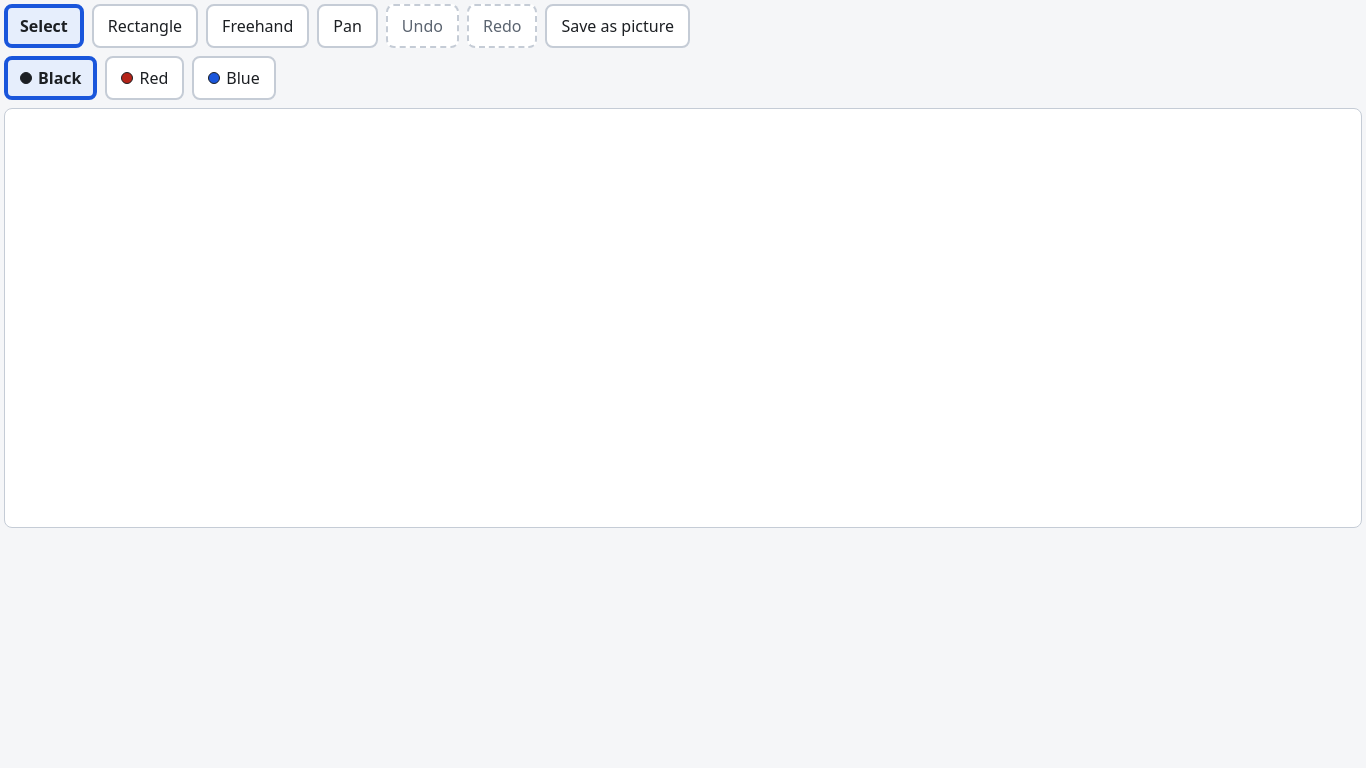
Scenario: toolbar › marks the chosen tool and the chosen colour with aria-pressed
The width and height of the screenshot is (1366, 768).
Click the button "Pan" at (348, 26), box [317, 4, 378, 48]
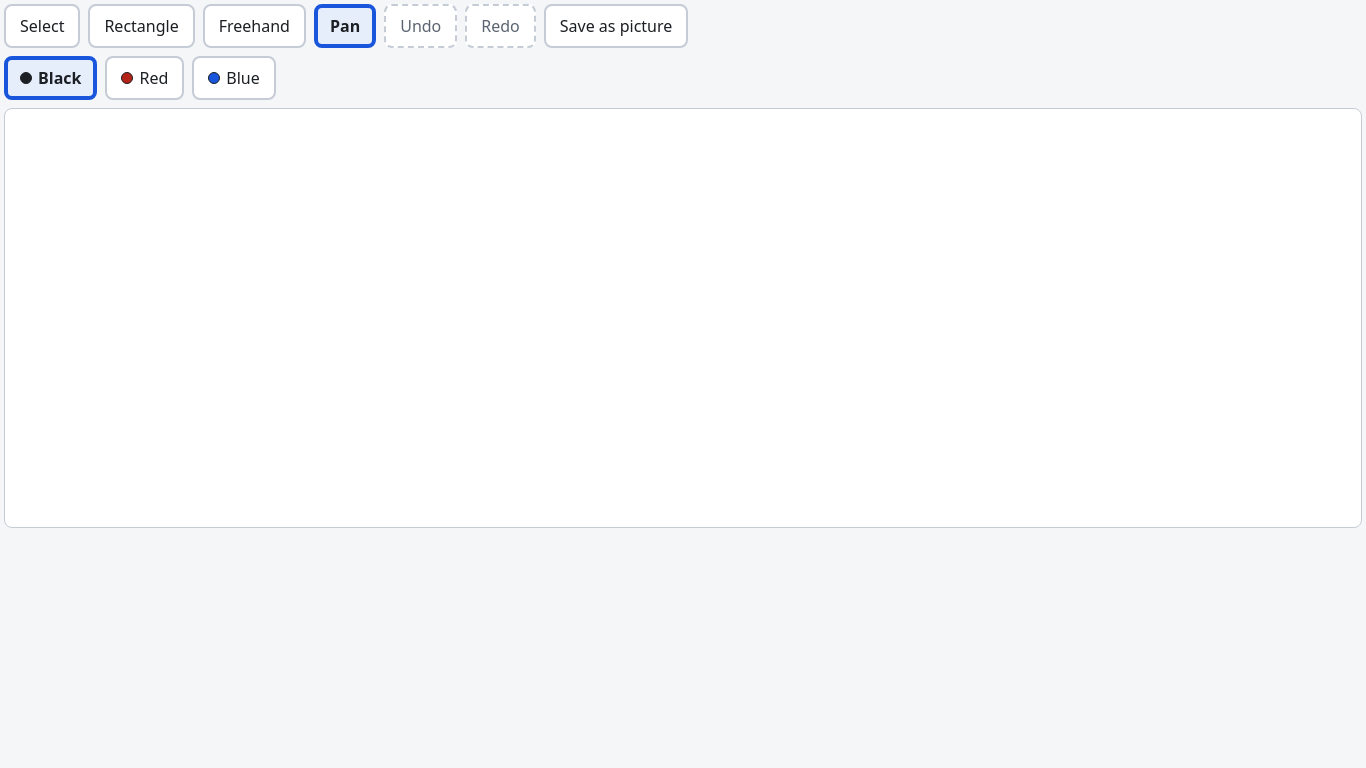
Click the button "Red" at (145, 78), box [106, 56, 184, 100]
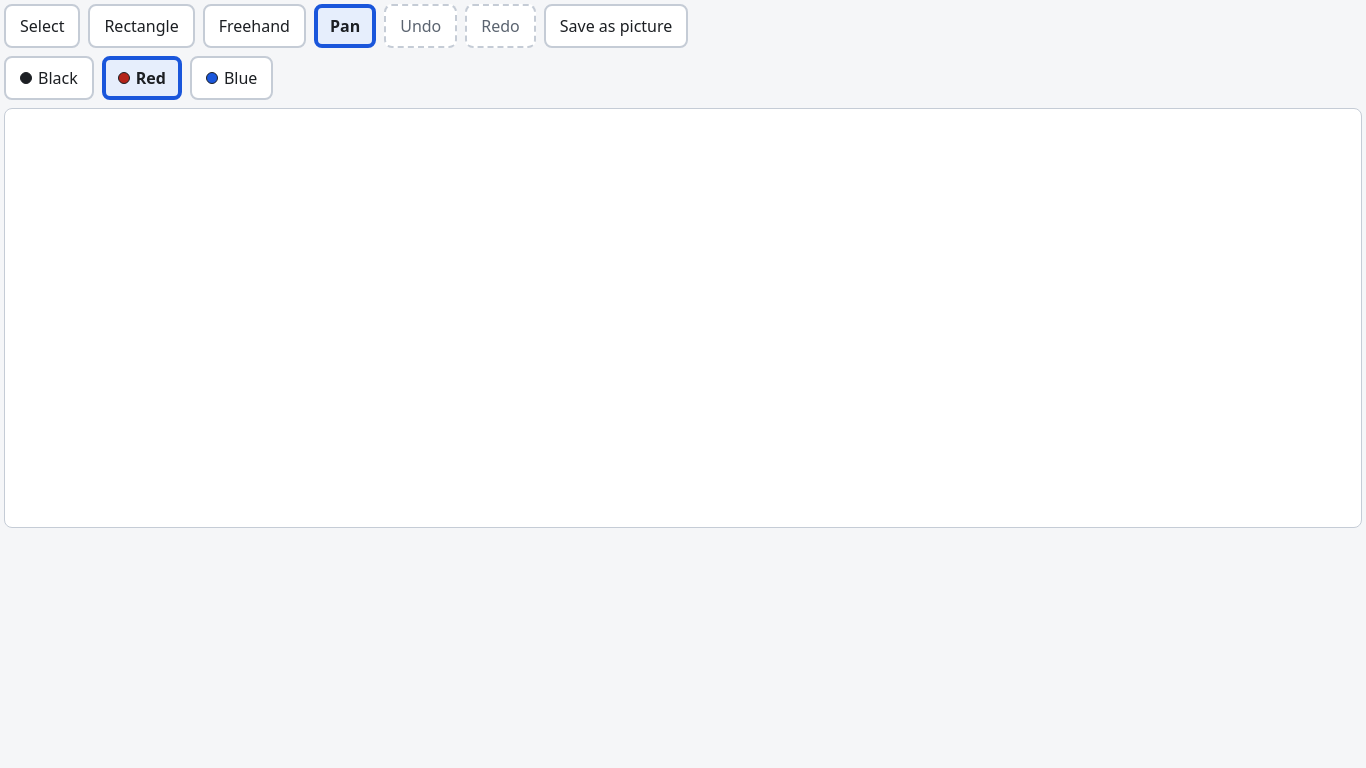
Expected: the button "Pan" is pressed, [314, 4, 376, 48]
Expected: the button "Select" is not pressed, [4, 4, 80, 48]
Expected: the button "Red" is pressed, [102, 56, 182, 100]
